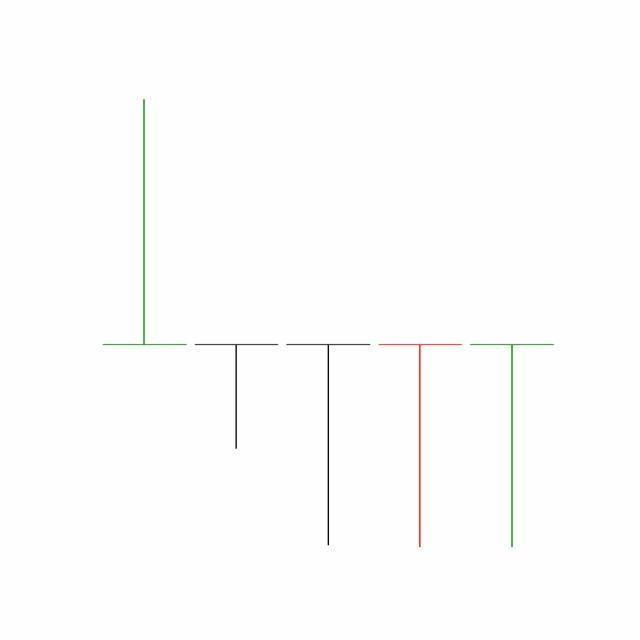Dragonfly Doji: (466, 342, 559, 551)
